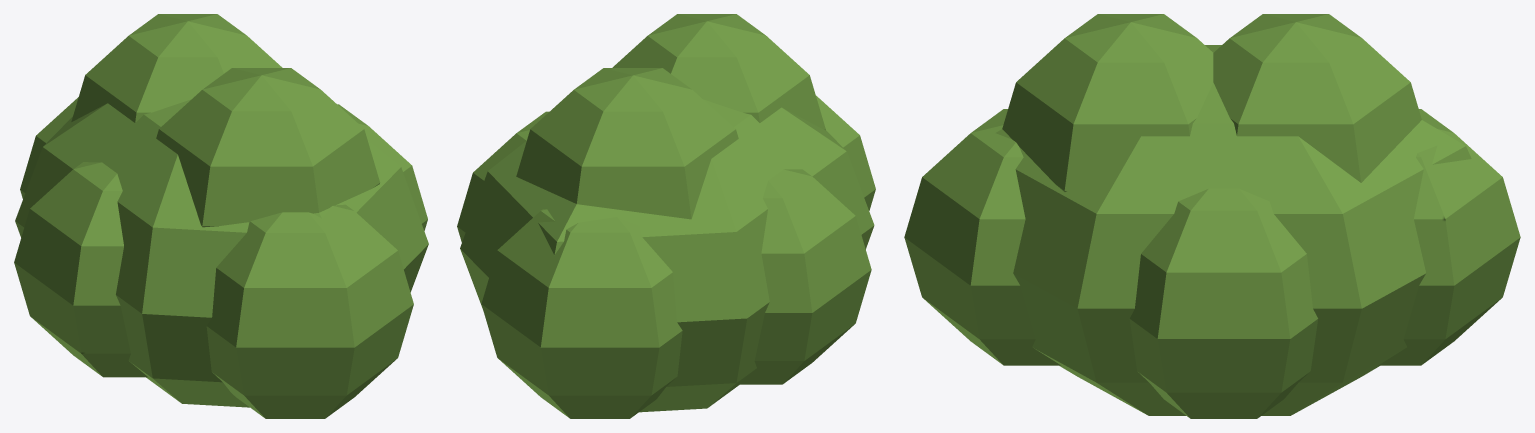
Rendered from Bush.fbx.
3 renders of one model, left to right at view 1: azimuth 30°, elevation 25°; view 2: azimuth 150°, elevation 25°; view 3: azimuth 270°, elevation 25°, orthographic. The views are drawn at different scales.
Parts seen in each view (by area): view 1: Bush; view 2: Bush; view 3: Bush.
Part boxes in pixels (x1,y1,x2,y2): Bush: [14, 14, 428, 418]; Bush: [457, 14, 875, 418]; Bush: [904, 14, 1520, 418].
Bounding box in the file's own units: 345 × 314 × 465.
